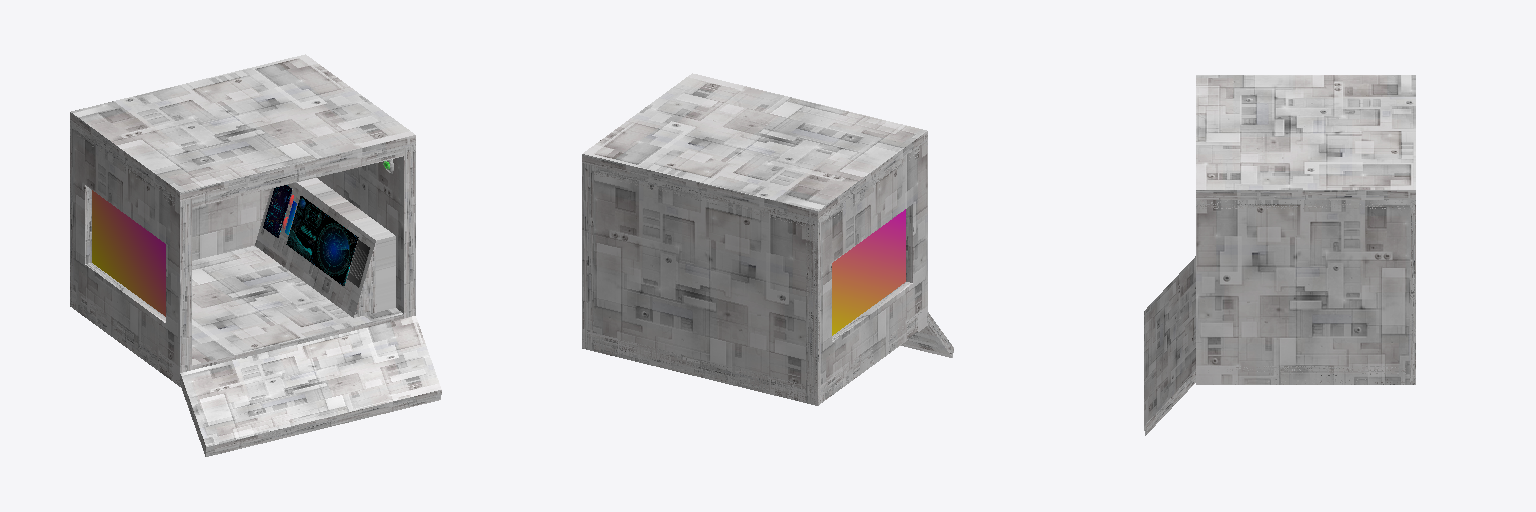
The picture shows the model from 3 angles: view 1: azimuth 30°, elevation 25°; view 2: azimuth 150°, elevation 25°; view 3: azimuth 270°, elevation 25°; orthographic projection.
Visible parts, largest first — view 1: Ampoule04.001; view 2: Ampoule04.001; view 3: Ampoule04.001.
Boxes of the visible parts, box(x1,y1,x2,y2) form: Ampoule04.001: box(70, 54, 441, 456); Ampoule04.001: box(582, 73, 953, 405); Ampoule04.001: box(1144, 75, 1415, 435).
Size of the model in its own units: 1 by 1 by 1.
1 materials, 1 textured.